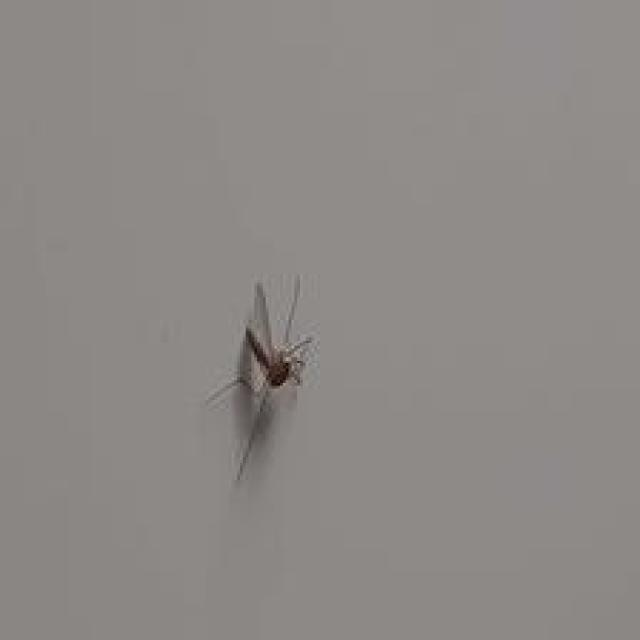Culex: (204, 273, 316, 481)
